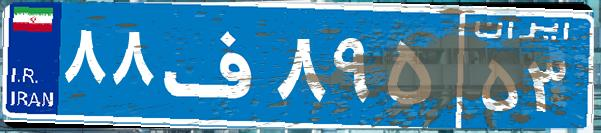3: (525, 38, 570, 115)
5: (385, 28, 445, 110), (475, 38, 525, 113)
8: (273, 28, 330, 110), (57, 26, 110, 107), (110, 28, 158, 105)
9: (330, 28, 385, 110)
ف: (158, 15, 273, 115)
